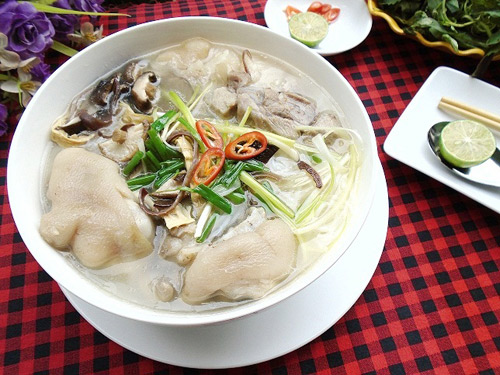chilli: (190, 114, 225, 155), (194, 146, 224, 184), (228, 133, 266, 157)
onion: (141, 121, 185, 188)
pork: (159, 206, 296, 306), (42, 146, 154, 264), (242, 78, 315, 136)
